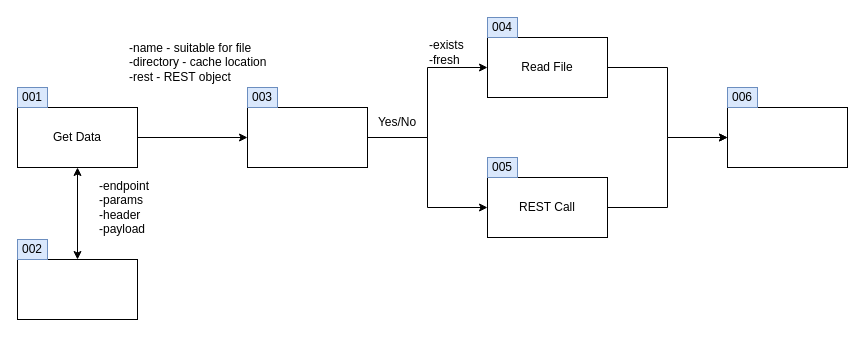
Some shapes in this 865 by 337 pixel diagram are drawn without their labels. Each missing label, with the centre of its shape:
"Check Cache" belongs at point 307,137.
"Construct REST Object" belongs at point 77,289.
"Return JSON Data" belongs at point 787,137.
